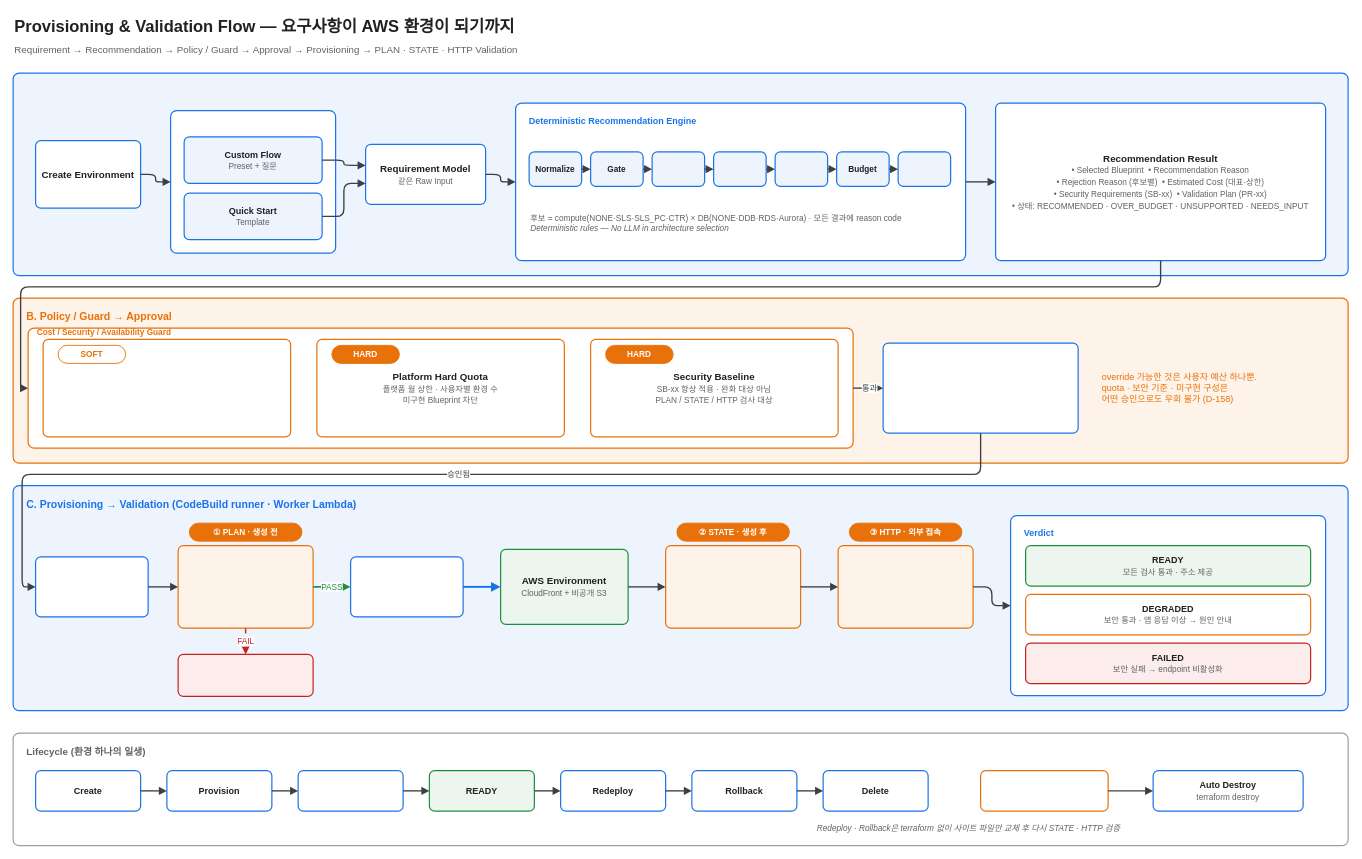
Some shapes in this 1362 by 859 pixel diagram are drawn without their labels. Here are the shapes that lost their labels. From the top down, the box of each, then its label:
(170, 110, 336, 253): Input Method
(651, 151, 705, 187): Enumerate
(12, 72, 1348, 276): A. Requirement → Recommendation
(713, 151, 766, 187): Filter
(774, 151, 828, 187): Rank
(897, 151, 951, 187): Policy
(42, 338, 291, 437): User Monthly Budget 사용자가 입력한 예산 초과 → 완화안 적용 또는 명시적 초과 승인 (budget_override 기록)
(882, 342, 1078, 433): User Approval 비용·보안·검사 항목 확인 후 승인 PROD는 관리자 승인 추가
(35, 556, 148, 617): Terraform Plan 환경별 state로 init
(177, 545, 313, 628): PLAN Validator SB 기준으로 plan JSON 검사
(350, 556, 463, 617): Terraform Apply + 사이트 파일 첫 배포
(665, 545, 801, 628): STATE Validation 생성 후 실제 설정 확인 (OAC · 차단 · 암호화 · 로그)
(837, 545, 973, 628): HTTP Validation 실제 주소 접속 · 헤더 S3 직접 접근 403
(177, 653, 313, 697): FAIL → BLOCK 리소스를 만들지 않음
(297, 770, 403, 811): Validate
(980, 770, 1108, 811): DEV TTL 7일 Scheduler sweep
